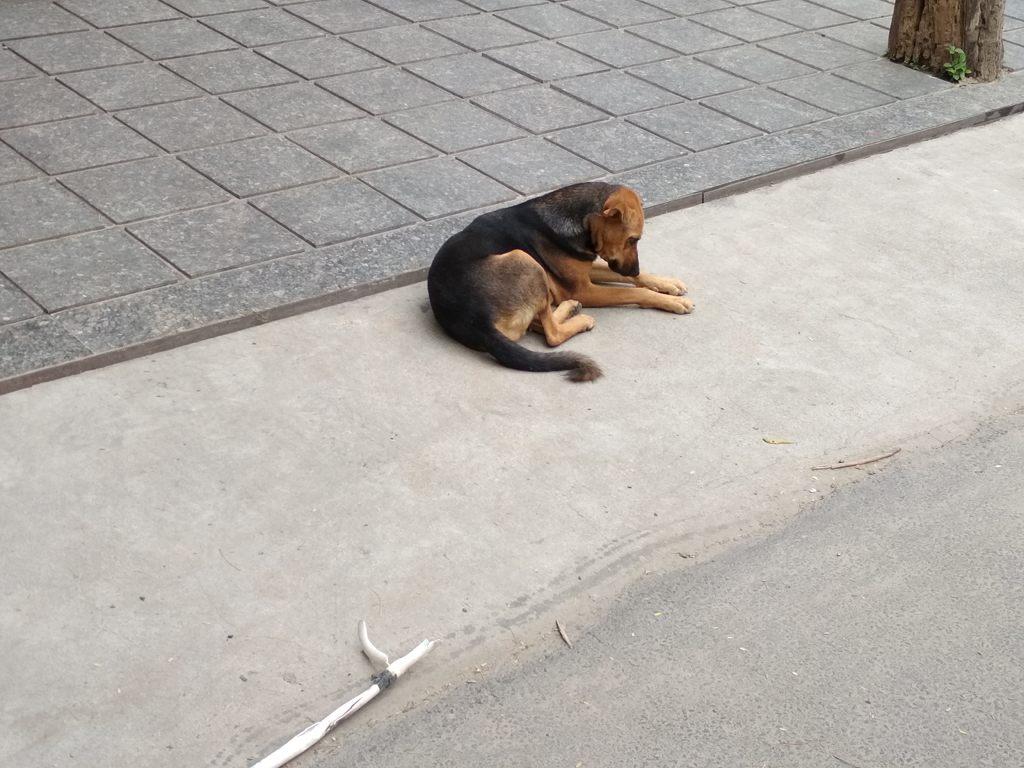dog: (427, 183, 694, 382)
